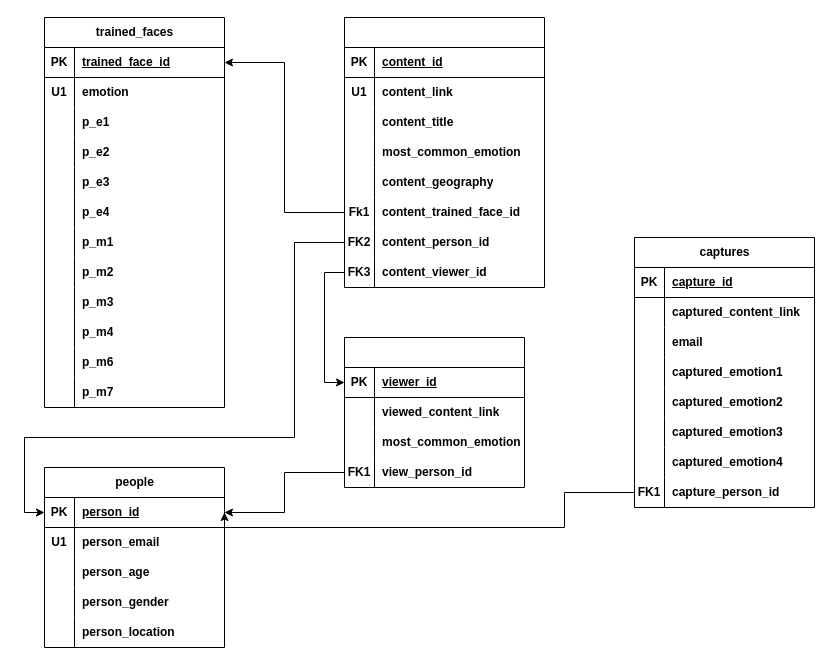
This 832x665 diagram has some shape labels left out. Here are the shapes that lost their labels. From the top down, the box of each, then its label:
(344, 16, 544, 288): contents
(344, 336, 524, 488): views
